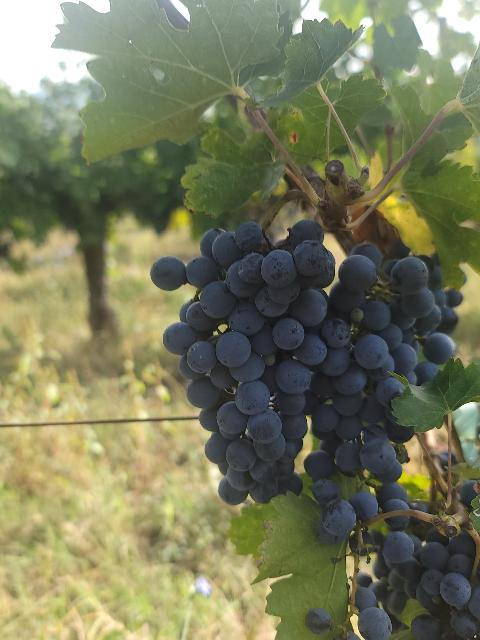grapes: (151, 219, 335, 504), (305, 250, 461, 549)
